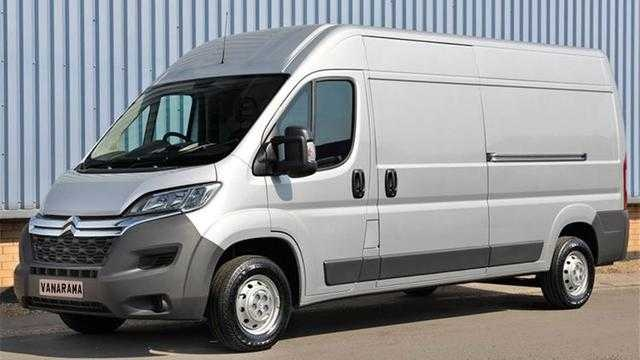van: (13, 24, 629, 352)
